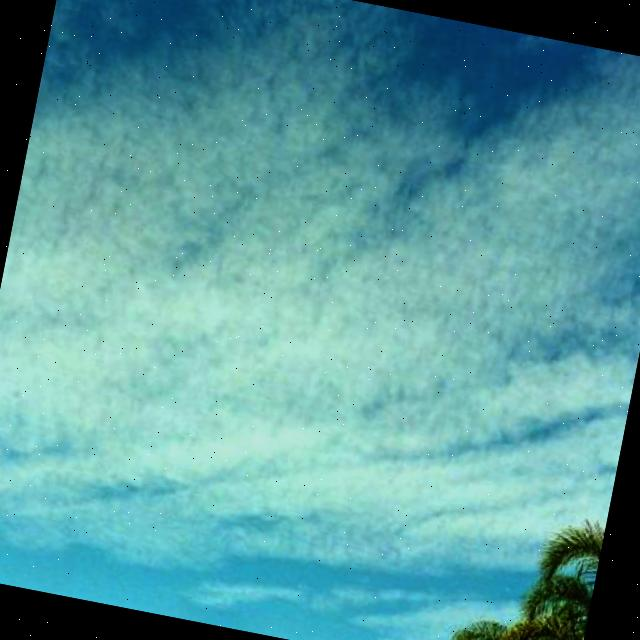Cc: (1, 1, 640, 436)
